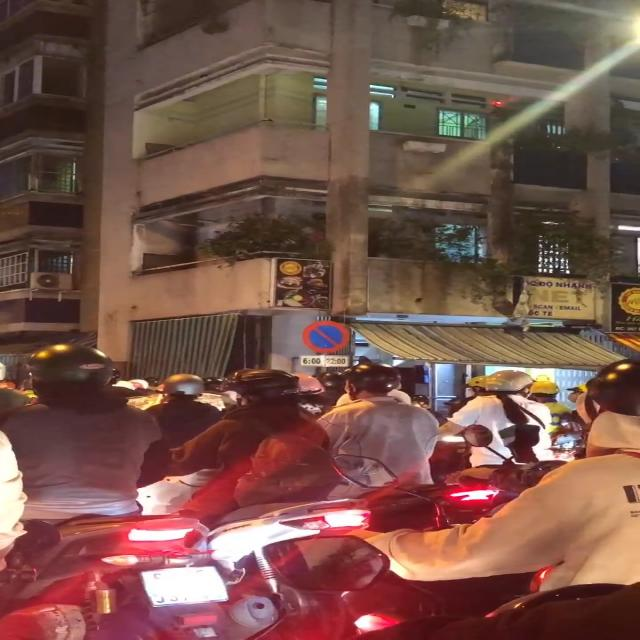Bien bao cam do xe: (302, 317, 357, 354)
